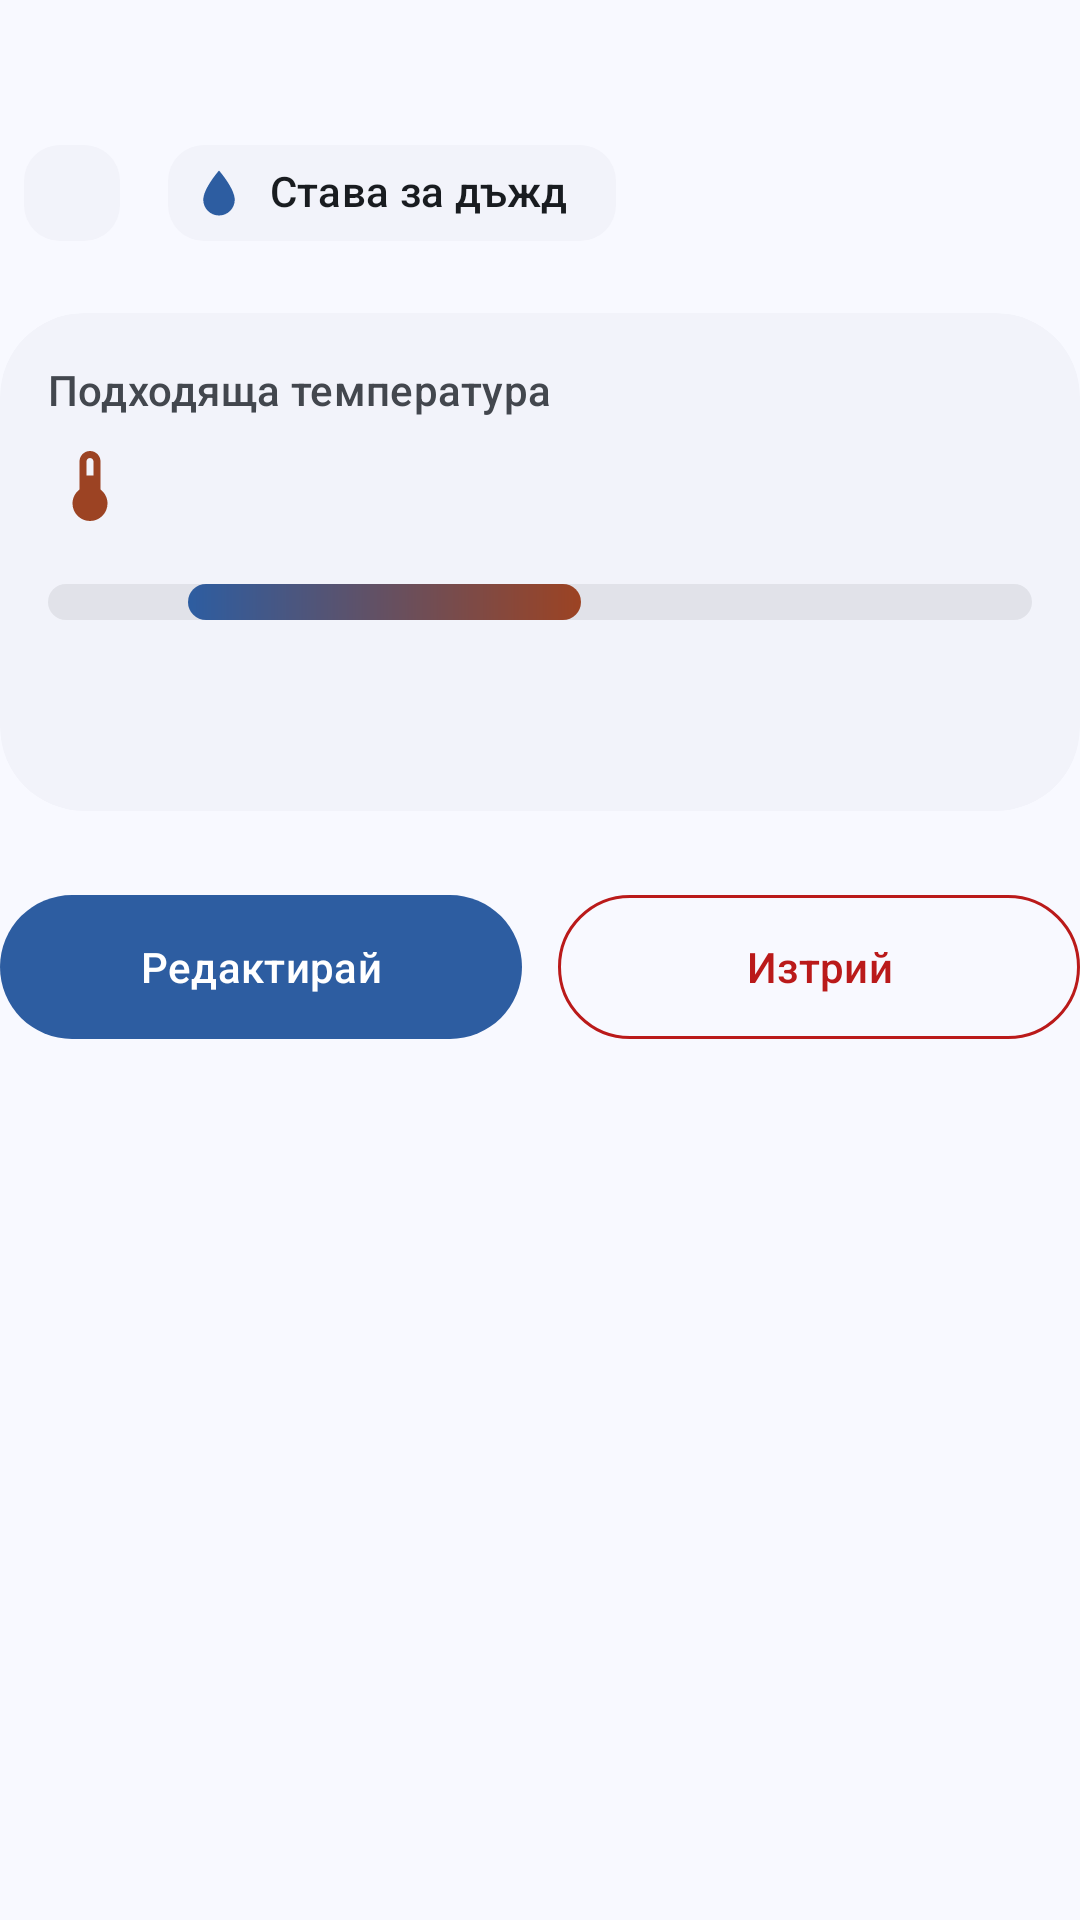

Icon click points for this 1080 × 1920 phone screenshot, format (x=x, y=y):
thermometer: (x=90, y=486)
